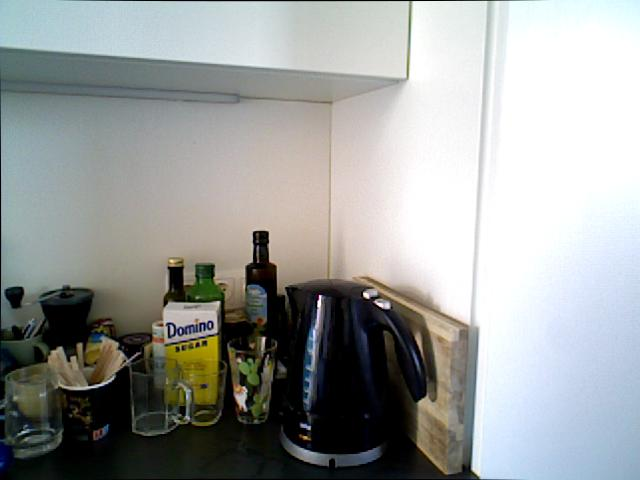bench: (178, 262, 228, 378), (243, 229, 277, 380), (160, 257, 186, 375)
handbag: (3, 363, 63, 459), (128, 357, 192, 436), (57, 366, 117, 447), (227, 335, 277, 424), (178, 358, 228, 427)
hot dog: (468, 1, 640, 480)
